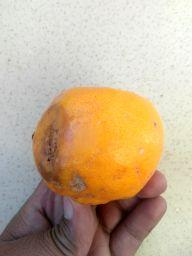Unripe: (30, 87, 167, 205)
